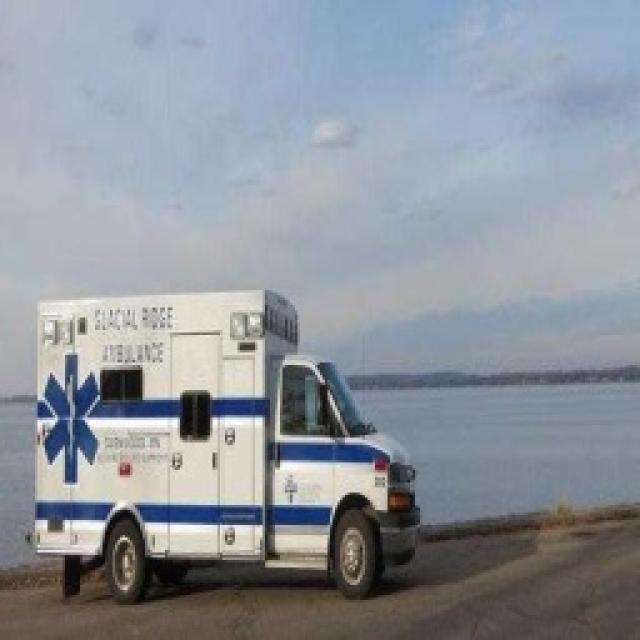emergency-vehicle: (33, 292, 423, 603)
